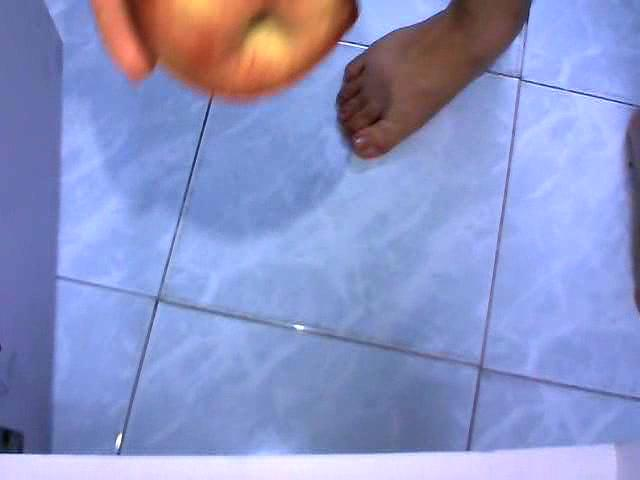apple: (122, 0, 360, 103)
